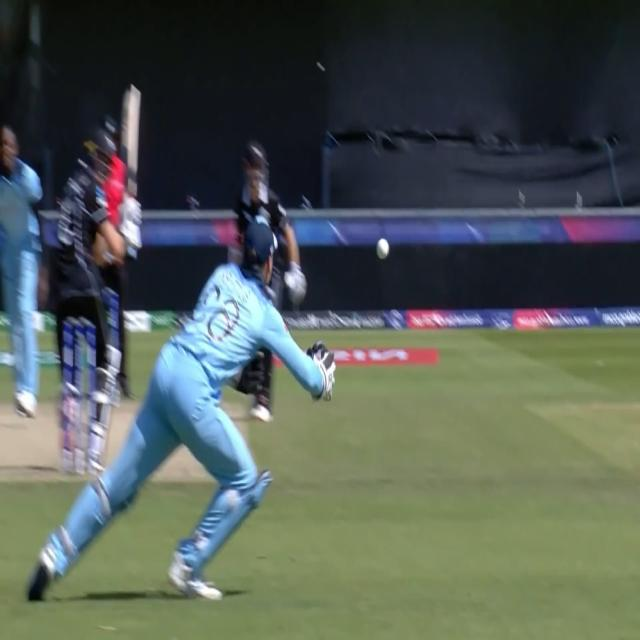ball: (370, 235, 393, 262)
